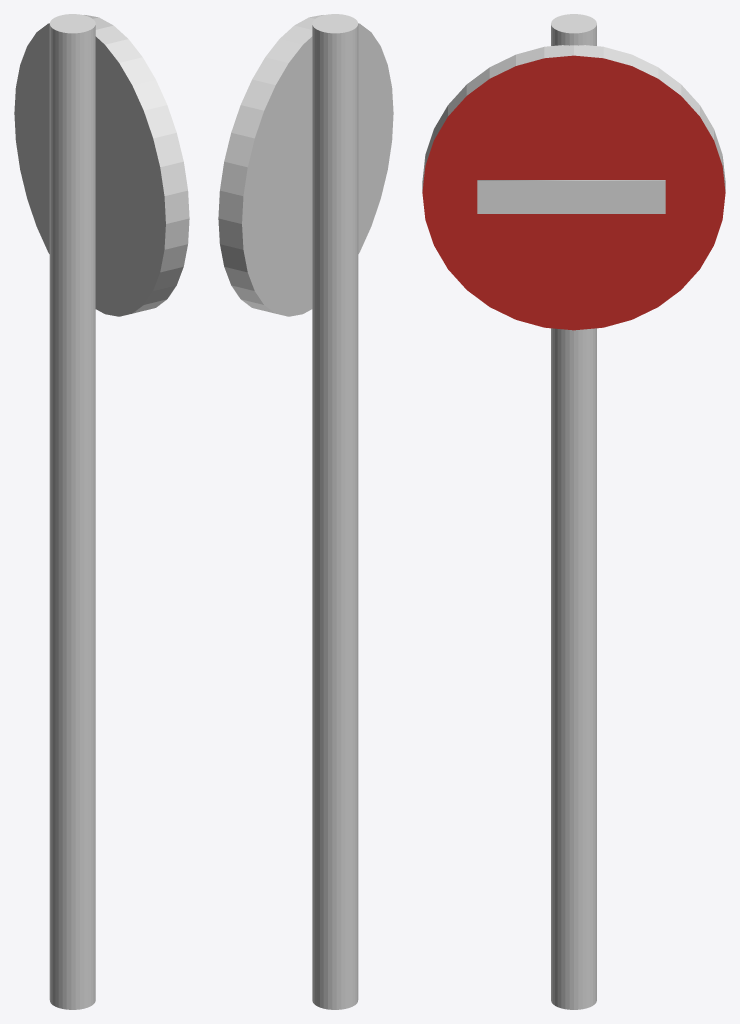
File: SignDontEnter.fbx
The picture shows the model from 3 angles, left to right: view 1: azimuth 30°, elevation 25°; view 2: azimuth 150°, elevation 25°; view 3: azimuth 270°, elevation 25°; orthographic projection.
Visible parts, largest first — view 1: Cylinder.001, SignCircle.002; view 2: Cylinder.001, SignCircle.002; view 3: SignCircle.002, Cylinder.001, TextStop.001.
Boxes of the visible parts, box(x1,y1,x2,y2) form: Cylinder.001: box(49, 14, 95, 1009); SignCircle.002: box(14, 15, 189, 316); Cylinder.001: box(312, 14, 358, 1009); SignCircle.002: box(218, 15, 393, 316); SignCircle.002: box(422, 45, 725, 330); Cylinder.001: box(551, 14, 596, 1009); TextStop.001: box(477, 180, 665, 213).
Bounding box in the file's own units: 110 × 1671 × 470.
